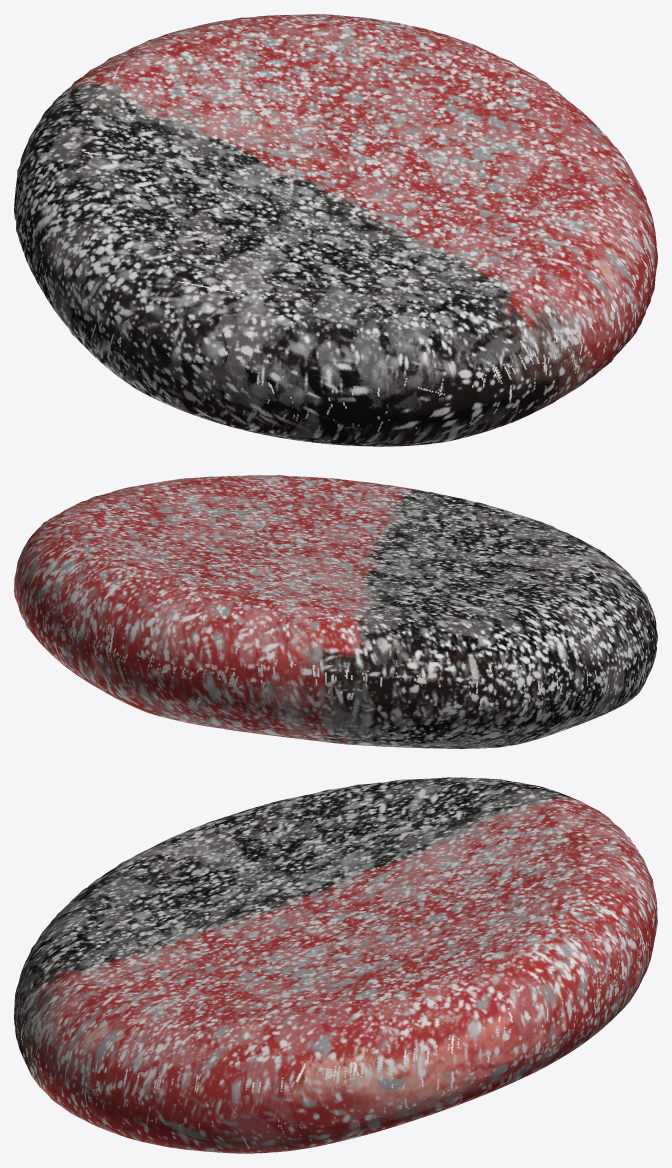
Rendered from Sunset_model.glb.
The picture shows the model from 3 angles, top to bottom: view 1: azimuth 30°, elevation 25°; view 2: azimuth 150°, elevation 25°; view 3: azimuth 270°, elevation 25°; orthographic projection. The views are drawn at different scales.
Parts seen in each view (by area): view 1: Geometry; view 2: Geometry; view 3: Geometry.
Part boxes in pixels (x1,y1,x2,y2): Geometry: (14,14,657,446); Geometry: (14,475,657,748); Geometry: (14,777,657,1153).
Bounding box in the file's own units: 1.88 × 0.7041 × 1.85.
1 material, 1 textured.
